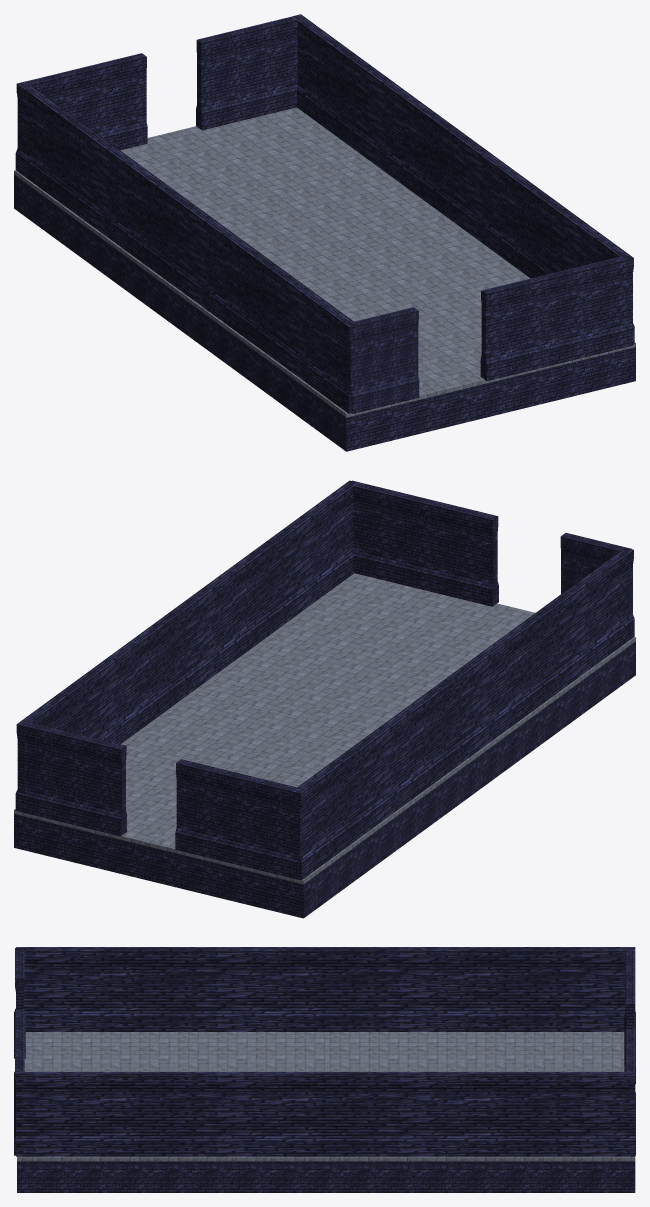
Rendered from basic-room.glb.
3 views of the same model, one above another, from view 1: azimuth 30°, elevation 25°; view 2: azimuth 150°, elevation 25°; view 3: azimuth 270°, elevation 25° (orthographic). The views are drawn at different scales.
Parts seen in each view (by area): view 1: wall (×6), floor (×2); view 2: wall (×6), floor (×2); view 3: wall (×6), floor (×2).
Part boxes in pixels (bbox=[...]): wall (×6): bbox=[15, 14, 634, 413]; floor (×2): bbox=[14, 107, 635, 451]; wall (×6): bbox=[15, 480, 634, 879]; floor (×2): bbox=[14, 573, 635, 918]; wall (×6): bbox=[14, 947, 635, 1156]; floor (×2): bbox=[17, 1032, 635, 1192].
Size of the model in its own units: 8 by 3.28 by 16.
Materials: 16 (16 with a texture image).
